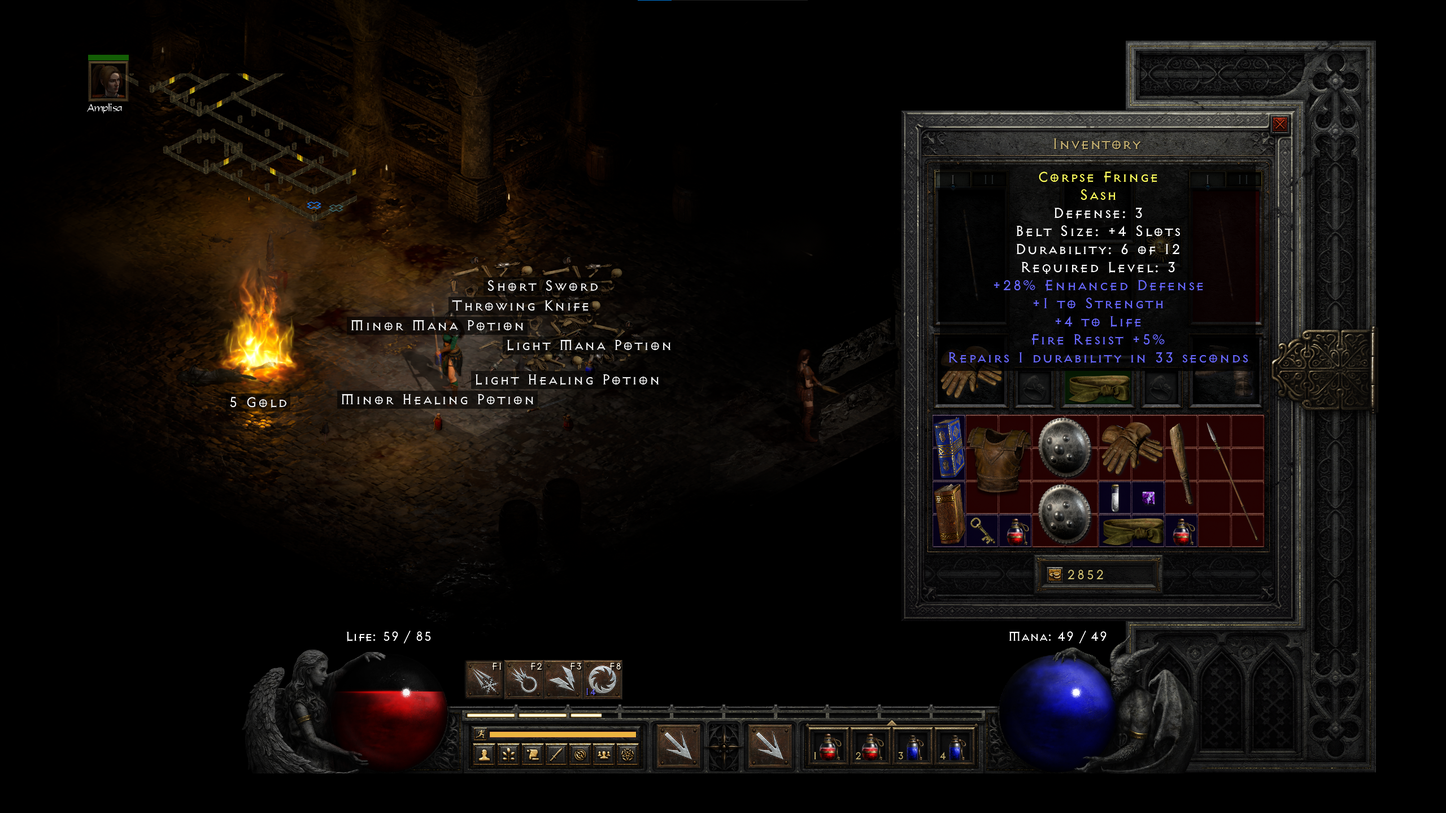tooltip: (940, 165, 1255, 370)
